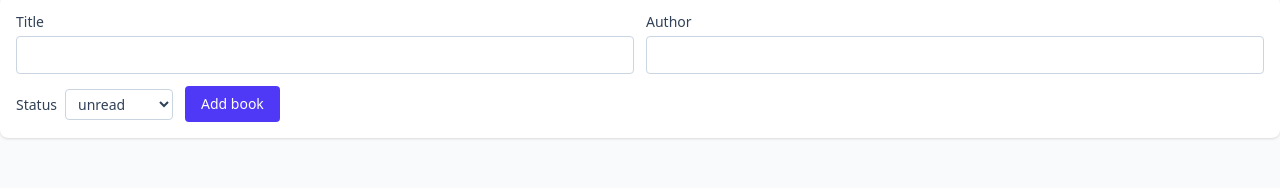
Test: BookForm (task 6.1) › shows an error message when the add fails
Type "T" into the field with test id "title-input".
click(325, 55); type("T")  # box x1=16 y1=36 x2=634 y2=74
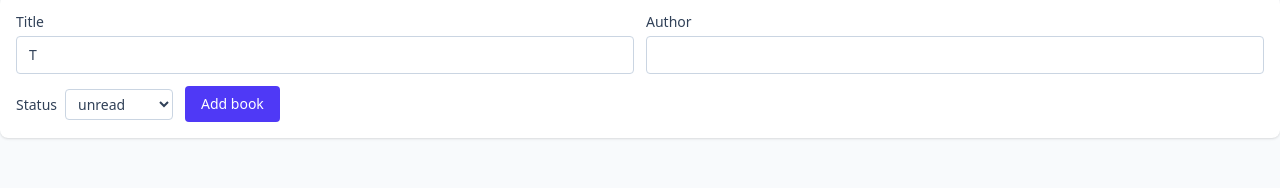
Type "A" into the field with test id "author-input".
click(955, 55); type("A")  # box x1=646 y1=36 x2=1264 y2=74
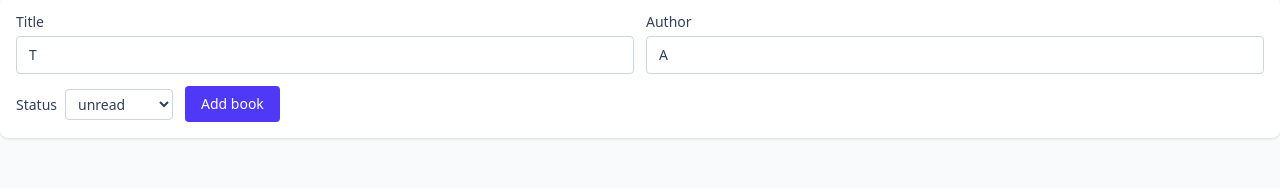
Click the button "Add book".
click(232, 104)  # box x1=185 y1=86 x2=280 y2=122
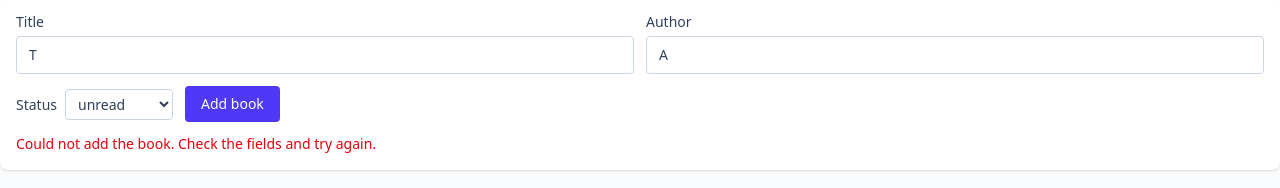
Result: the message "Could not add the book. Check the fields and try again." is shown at x1=16 y1=134 x2=376 y2=153
